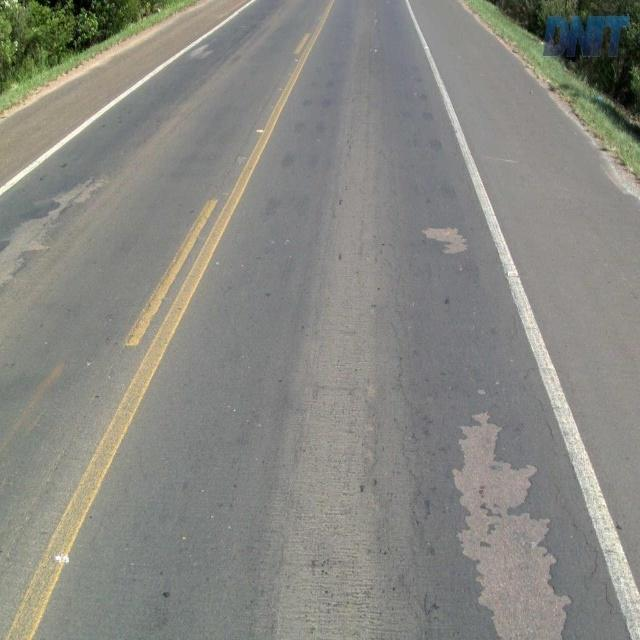pothole: (448, 399, 581, 639), (6, 183, 90, 286), (412, 216, 472, 256), (0, 285, 5, 289)
